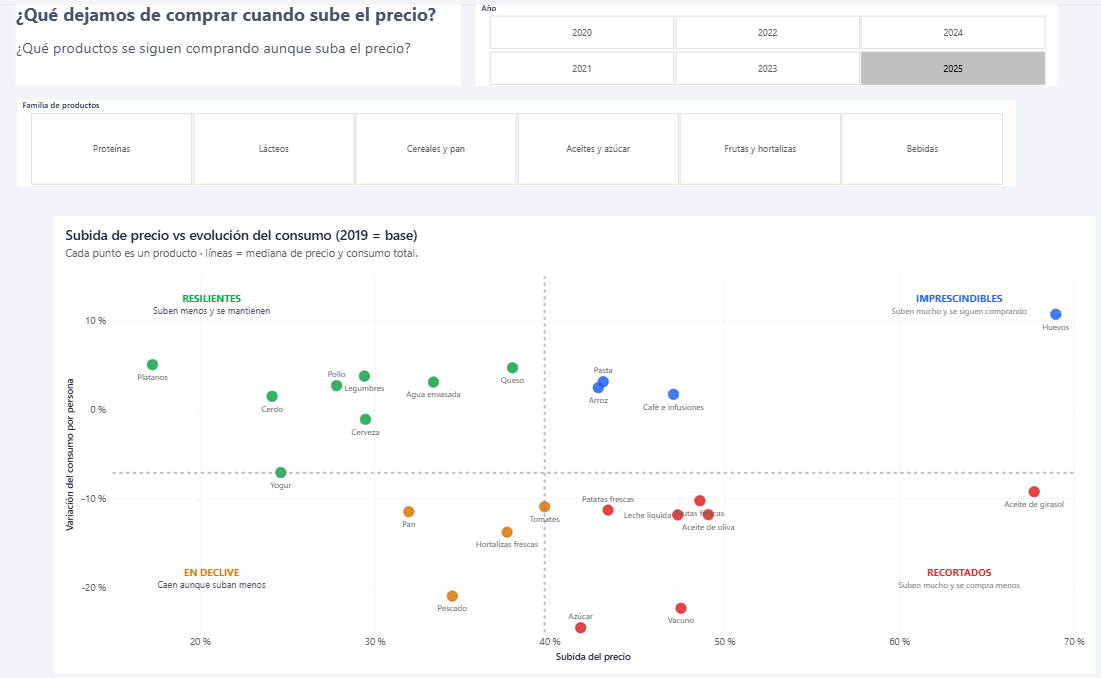

The page's visual inventory and layout, read from the dashboard file:
{"tool":"powerbi","page":{"name":"Matriz","canvas":[1920,1080],"ordinal":1},"visuals":[{"type":"textbox","box":[42.3,0,655.2,125.2],"z":0},{"type":"slicer","fields":{"Values":["dim_anio.anio"]},"box":[719.6,1.8,857.7,123.3],"z":1000},{"type":"scatterChart","title":"Subida de precio vs evolución del consumo (2019 = base)","fields":{"Category":["dim_producto.producto"],"Series":["kpis.cuadrante"],"X":["_Medidas.Var precio %"],"Y":["_Medidas.Var consumo %"]},"box":[100,315.7,1533.1,673.6],"z":2000},{"type":"textbox","box":[1325,427.5,212.5,47.5],"z":3000},{"type":"textbox","box":[1325,830,212.5,67.5],"z":4000},{"type":"textbox","box":[232.5,427.5,197.5,47.5],"z":5000},{"type":"textbox","box":[232.5,830,197.5,67.5],"z":6000},{"type":"slicer","fields":{"Values":["dim_producto.familia"]},"box":[44.2,145.4,1470.6,127],"z":7000}]}

Visuals, with their boxes on the page's 1920x1080 design canvas (x1, y1, x2, y2). These are canvas units, not pixel positions in the 1101x678 screenshot, which may show the page scaled, cropped or inside an application window:
textbox: bbox=[42, 0, 698, 125]
slicer - dim_anio.anio: bbox=[720, 2, 1577, 125]
"Subida de precio vs evolución del consumo (2019 = base)" scatterChart: bbox=[100, 316, 1633, 989]
textbox: bbox=[1325, 428, 1538, 475]
textbox: bbox=[1325, 830, 1538, 898]
textbox: bbox=[232, 428, 430, 475]
textbox: bbox=[232, 830, 430, 898]
slicer - dim_producto.familia: bbox=[44, 145, 1515, 272]
